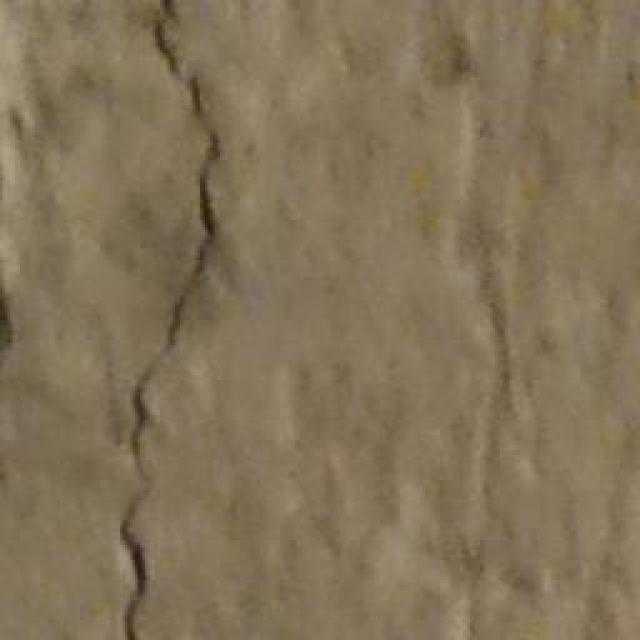Longitudinal: (111, 0, 234, 640)
